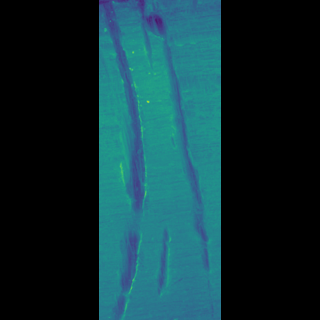Loch: (148, 1, 183, 318), (137, 1, 156, 320), (156, 221, 165, 298)
